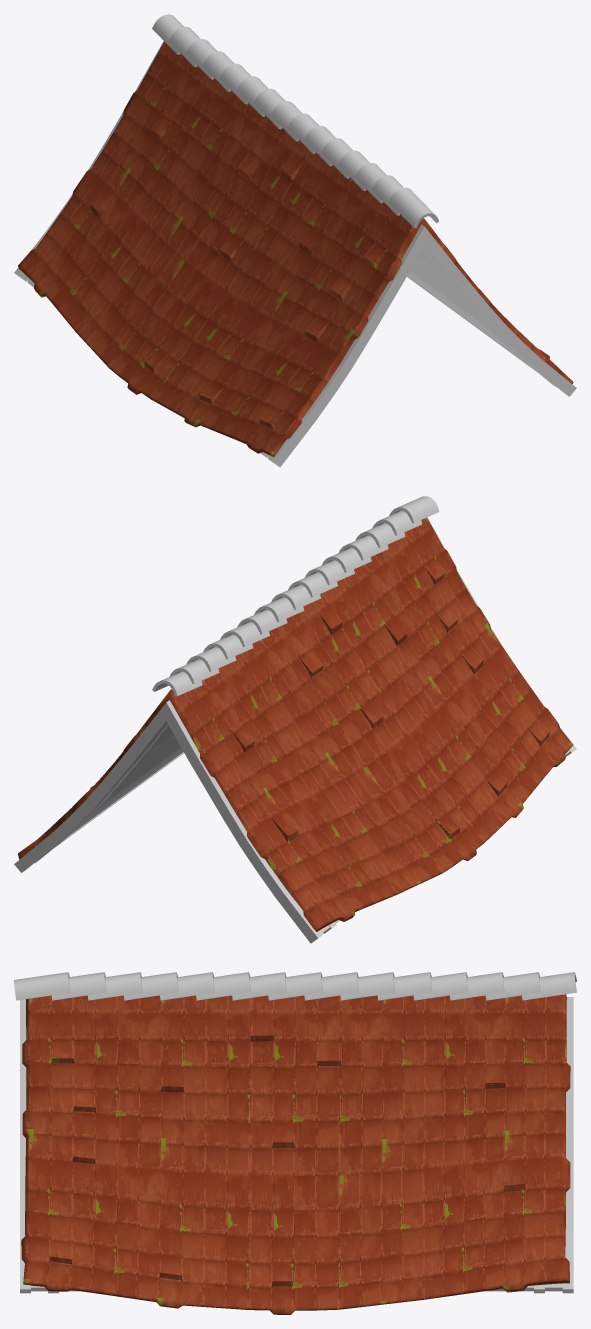
The model's file is Roof_FlatTiles_6x10.fbx.
3 renders of one model, top to bottom at view 1: azimuth 30°, elevation 25°; view 2: azimuth 150°, elevation 25°; view 3: azimuth 270°, elevation 25°, orthographic. The views are drawn at different scales.
Parts seen in each view (by area): view 1: Roof_FlatTiles_6x10; view 2: Roof_FlatTiles_6x10; view 3: Roof_FlatTiles_6x10.
Boxes of the visible parts, x1,y1,x2,y2 form: Roof_FlatTiles_6x10: (14,14,576,467); Roof_FlatTiles_6x10: (14,496,576,943); Roof_FlatTiles_6x10: (14,972,576,1314).
Size of the model in its own units: 889 by 587 by 1185.
